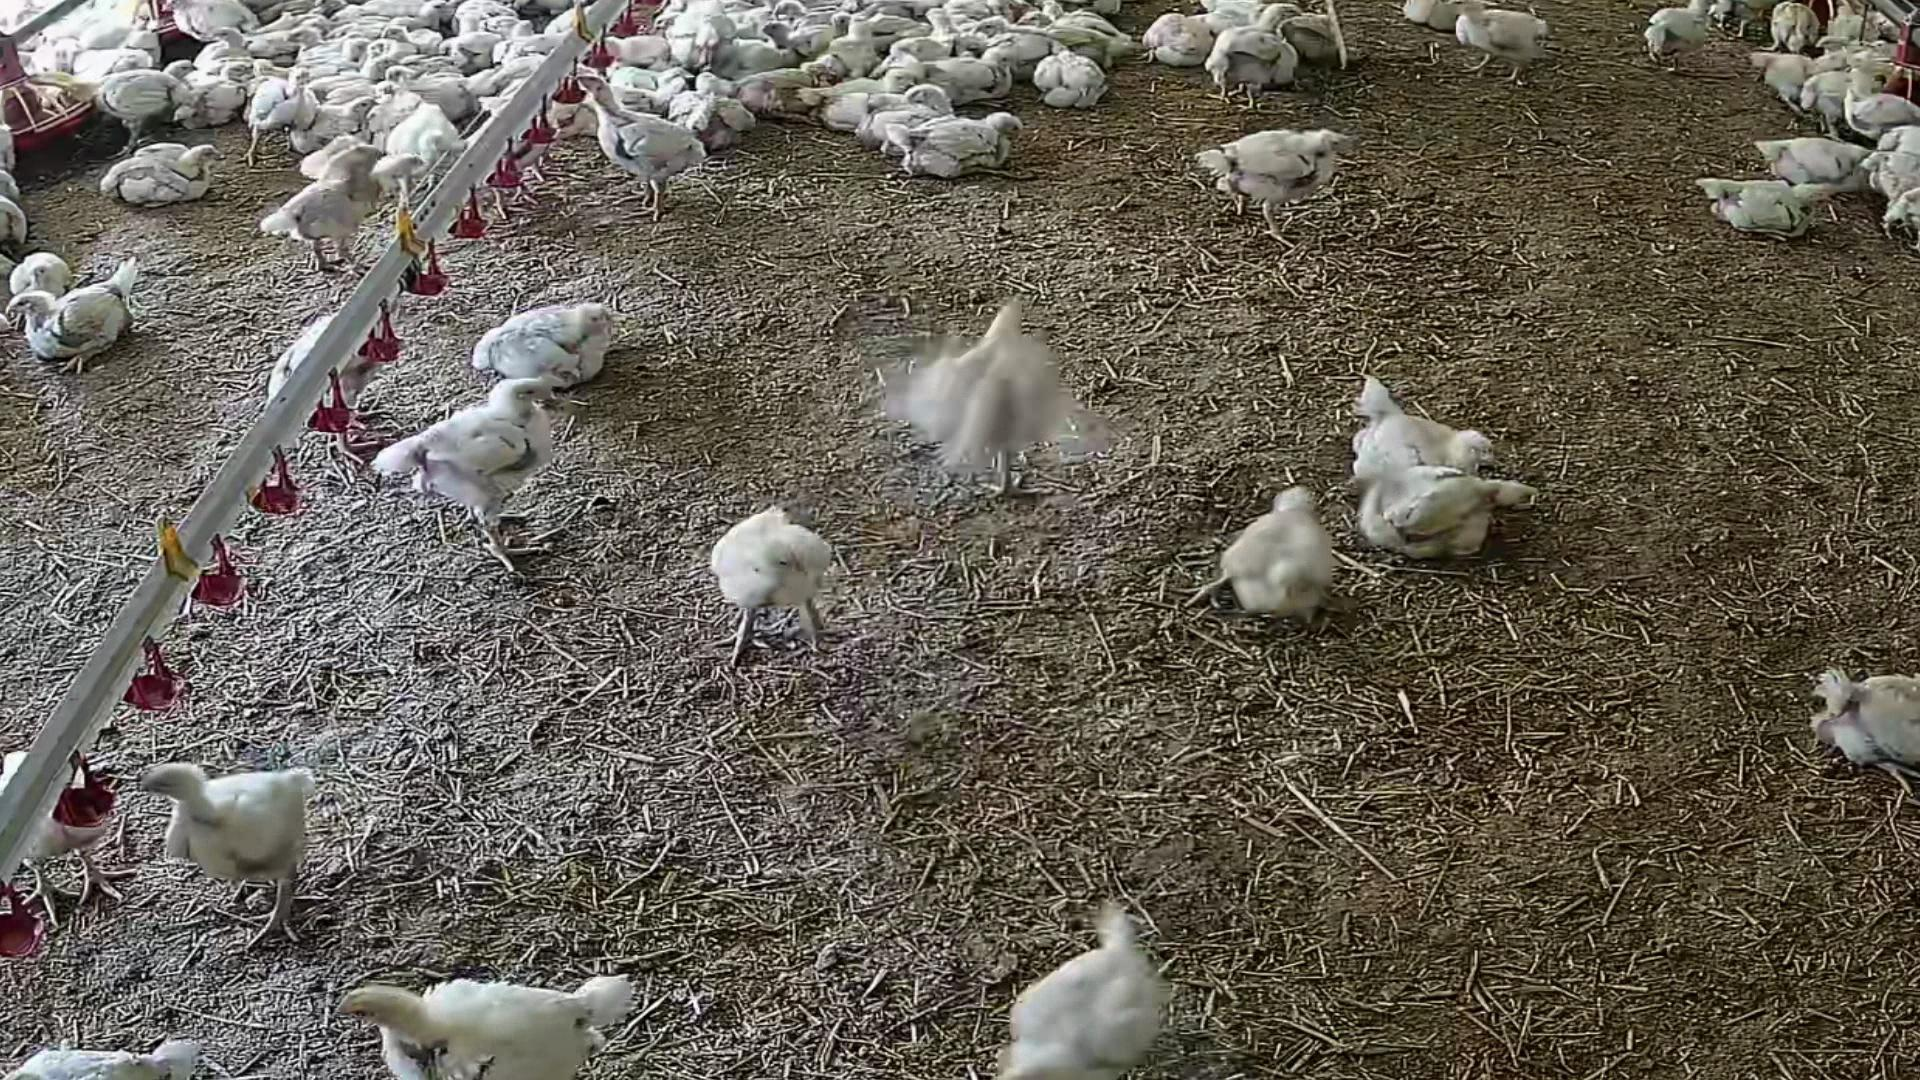poussin: (840, 260, 1162, 543), (945, 865, 1212, 1080), (309, 909, 638, 1080), (380, 360, 587, 626), (670, 481, 887, 696), (113, 753, 353, 938), (1348, 382, 1532, 584), (1197, 459, 1366, 647), (233, 328, 394, 497), (1167, 131, 1389, 247), (1793, 626, 1920, 820), (570, 73, 708, 241), (1379, 447, 1549, 571), (473, 274, 649, 390), (258, 141, 400, 273), (3, 268, 162, 367), (1692, 160, 1840, 249), (1218, 0, 1331, 109), (16, 1029, 244, 1080), (891, 107, 1040, 182), (107, 141, 257, 215), (95, 55, 204, 145), (1451, 0, 1567, 83), (365, 76, 459, 170), (1758, 124, 1865, 204), (1634, 0, 1734, 86), (1751, 40, 1870, 103), (1017, 3, 1130, 69), (248, 70, 319, 166), (679, 66, 757, 150), (1837, 67, 1920, 142), (916, 44, 1021, 103), (178, 53, 258, 129), (968, 11, 1071, 69), (1134, 12, 1218, 82), (1035, 40, 1114, 113), (385, 63, 491, 117), (857, 87, 961, 140), (154, 0, 269, 47), (823, 67, 920, 120), (1866, 144, 1920, 237), (0, 239, 73, 307), (738, 65, 840, 112), (309, 94, 386, 149), (1756, 0, 1828, 58), (284, 29, 371, 74), (667, 11, 724, 73), (833, 5, 924, 42), (1799, 69, 1861, 123), (753, 18, 836, 58), (214, 25, 287, 69), (836, 18, 886, 79), (384, 22, 448, 67), (600, 30, 673, 70), (476, 65, 546, 105), (1036, 0, 1124, 32), (384, 3, 454, 41), (497, 32, 571, 63), (434, 34, 497, 69), (777, 0, 844, 29), (1716, 0, 1763, 40), (1879, 115, 1920, 160), (306, 0, 386, 22), (1813, 26, 1847, 55), (1871, 37, 1894, 58)
